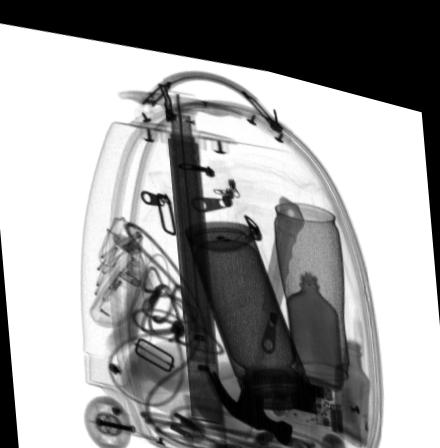Hammer: (206, 179, 306, 430)
